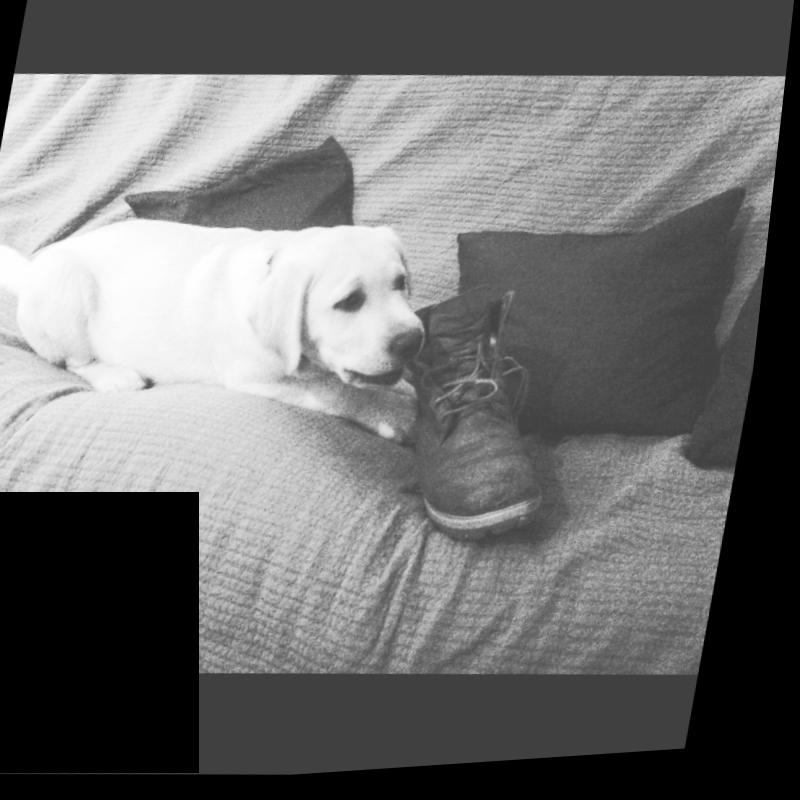pillow: (439, 172, 755, 466), (115, 122, 379, 244)
